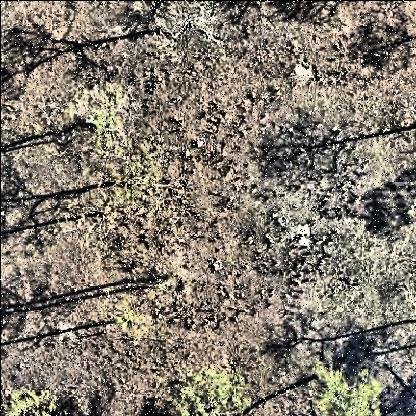tree-top: (77, 84, 139, 158), (308, 363, 389, 416), (176, 363, 254, 416), (152, 3, 224, 58), (108, 158, 163, 213), (109, 301, 151, 339), (5, 387, 57, 416)
